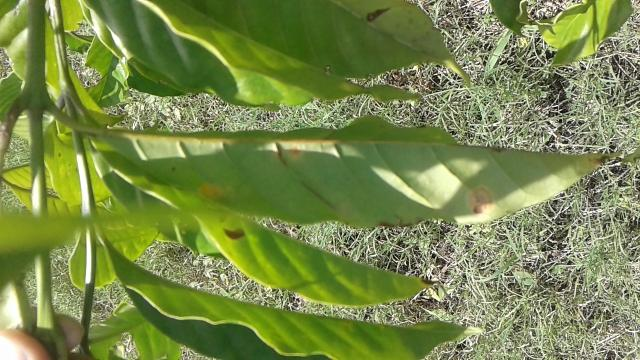rust_level_2: (100, 110, 632, 233)
